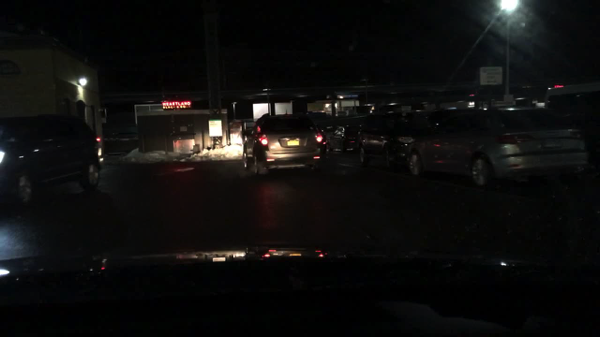bus: (543, 81, 599, 135)
car: (404, 108, 588, 187), (1, 115, 104, 205), (242, 113, 326, 176), (357, 118, 417, 169), (429, 105, 478, 129), (102, 125, 138, 154), (328, 124, 358, 152), (407, 111, 437, 134), (317, 125, 336, 140)
traffic sign: (480, 66, 504, 86)
